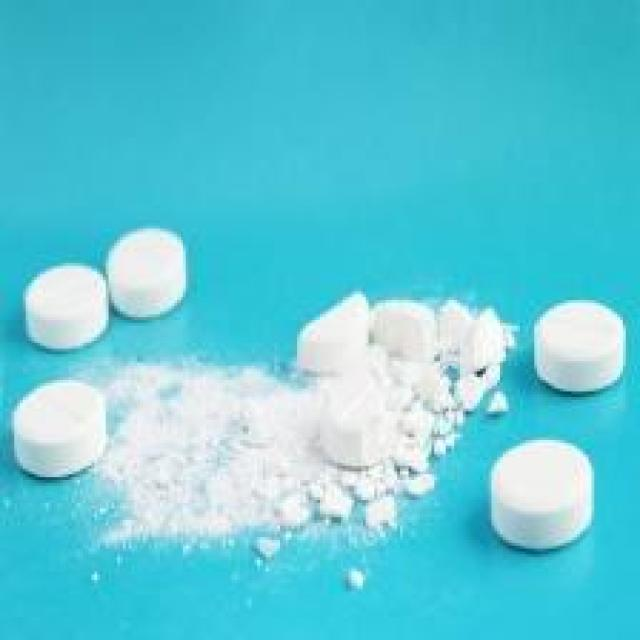Medicine: (0, 199, 635, 603)
